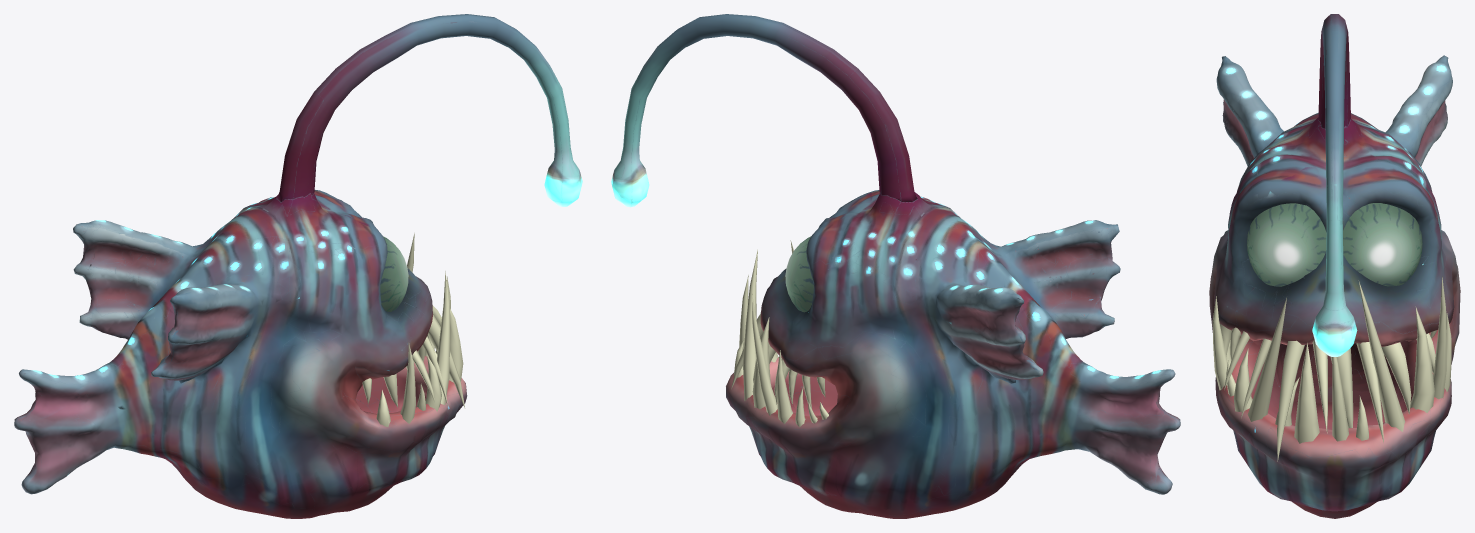
Rendered from anglerfish.glb.
The picture shows the model from 3 angles, left to right: view 1: azimuth 30°, elevation 25°; view 2: azimuth 150°, elevation 25°; view 3: azimuth 270°, elevation 25°; orthographic projection. The views are drawn at different scales.
Parts seen in each view (by area): view 1: Cylinder.006, Cylinder.008, Sphere.006; view 2: Cylinder.006, Cylinder.008, Sphere.006; view 3: Cylinder.006, Cylinder.008, Sphere.006.
Part boxes in pixels (box(x1,y1,x2,y2)): Cylinder.006: box(14, 14, 582, 518); Cylinder.008: box(362, 233, 465, 426); Sphere.006: box(380, 236, 408, 311); Cylinder.006: box(611, 14, 1180, 518); Cylinder.008: box(731, 240, 828, 427); Sphere.006: box(785, 236, 813, 312); Cylinder.006: box(1209, 14, 1460, 518); Cylinder.008: box(1212, 276, 1451, 461); Sphere.006: box(1247, 203, 1422, 286).
Size of the model in its own units: 5.45 by 4.23 by 1.86.
3 materials, 2 textured.
